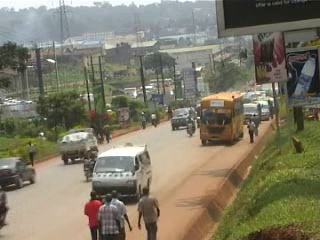Car: (0, 153, 38, 189), (168, 105, 200, 131)
Motorcycle: (81, 153, 96, 183), (186, 118, 195, 137), (150, 112, 158, 128)
